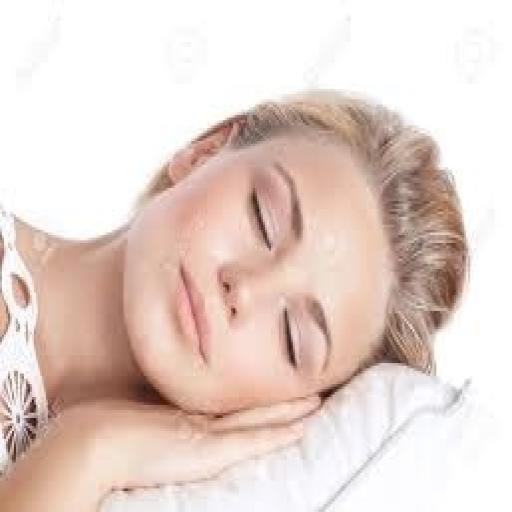sleeping: (0, 84, 472, 510)
